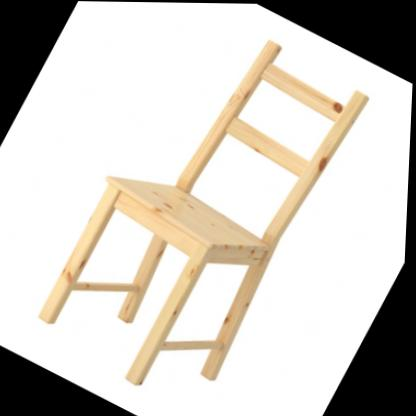Chair: (21, 0, 385, 416)
